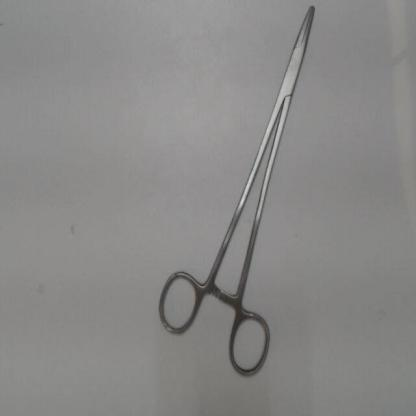8 Mayo Needle Holder: (151, 0, 323, 387)
